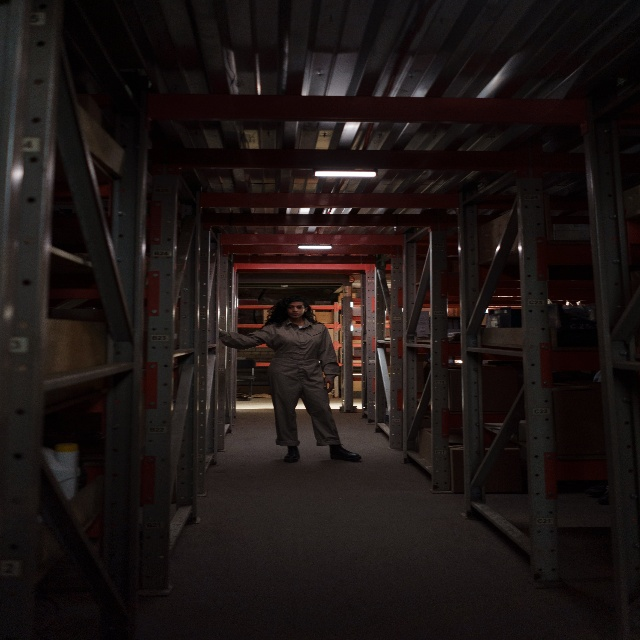Sin_guantes: (324, 378, 334, 393)
